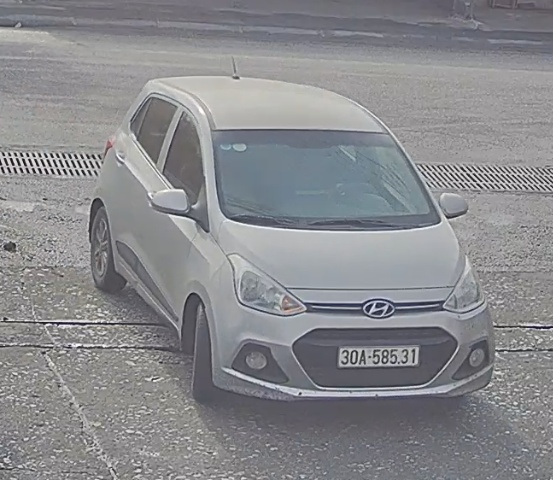vehicle plate: (333, 342, 421, 372)
